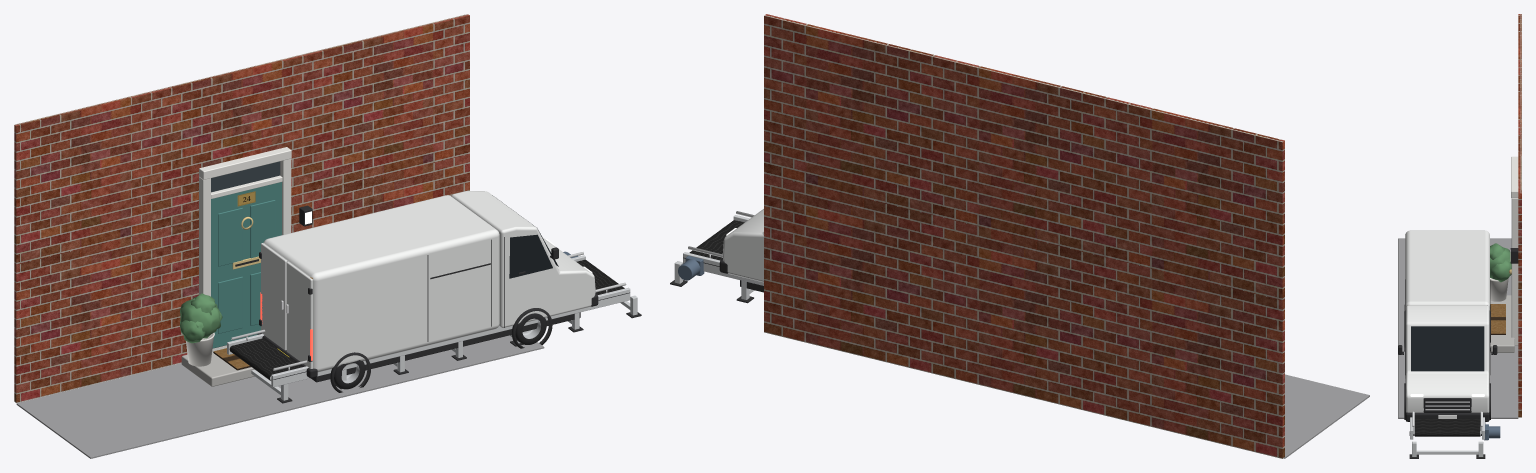
Rendered from ship.glb.
3 views of the same model, side by side, from view 1: azimuth 30°, elevation 25°; view 2: azimuth 150°, elevation 25°; view 3: azimuth 270°, elevation 25° (orthographic). The views are drawn at different scales.
Parts seen in each view (by area): view 1: Wall, Shell, Paving, Cab, Door, DoorPanel.001, DoorPanel, Belt, SideFrame.001, SideWindow, Jamb, Panel.001 (+9 smaller); view 2: Wall, Paving, Cab; view 3: Shell, Cab, Paving, Windscreen, Wall, Belt, Jamb.001, Grille, Step, FrontBumper, Mat, Planter (+7 smaller).
Boxes of the visible parts, bbox=[...] form: Wall: bbox=[14, 14, 469, 402]; Shell: bbox=[263, 195, 499, 372]; Paving: bbox=[16, 335, 544, 458]; Cab: bbox=[451, 191, 595, 327]; Door: bbox=[211, 182, 281, 348]; DoorPanel.001: bbox=[261, 243, 287, 350]; DoorPanel: bbox=[286, 262, 312, 368]; Belt: bbox=[229, 260, 624, 380]; SideFrame.001: bbox=[271, 287, 630, 387]; SideWindow: bbox=[509, 234, 552, 278]; Jamb: bbox=[199, 177, 210, 296]; Panel.001: bbox=[218, 207, 242, 266]; Wall: bbox=[764, 14, 1284, 458]; Paving: bbox=[1283, 374, 1369, 458]; Cab: bbox=[722, 209, 763, 282]; Shell: bbox=[1405, 230, 1489, 378]; Cab: bbox=[1406, 305, 1489, 412]; Paving: bbox=[1398, 238, 1518, 418]; Windscreen: bbox=[1411, 326, 1484, 371]; Wall: bbox=[1518, 14, 1521, 417]; Belt: bbox=[1415, 418, 1480, 436]; Jamb.001: bbox=[1511, 198, 1518, 345]; Grille: bbox=[1423, 398, 1471, 412]; Step: bbox=[1490, 295, 1514, 352]; FrontBumper: bbox=[1405, 412, 1489, 421]; Mat: bbox=[1490, 304, 1505, 334]; Planter: bbox=[1490, 278, 1508, 301].
Size of the model in its own units: 148 by 71.1 by 35.01.
Materials: 28 (5 with a texture image).
